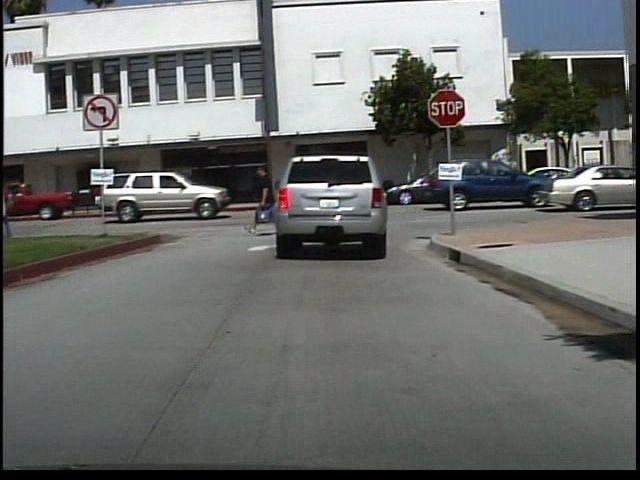person: (252, 159, 284, 240), (4, 173, 26, 241), (118, 171, 142, 210), (146, 171, 165, 209)
